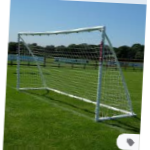goals: (12, 24, 133, 122)
